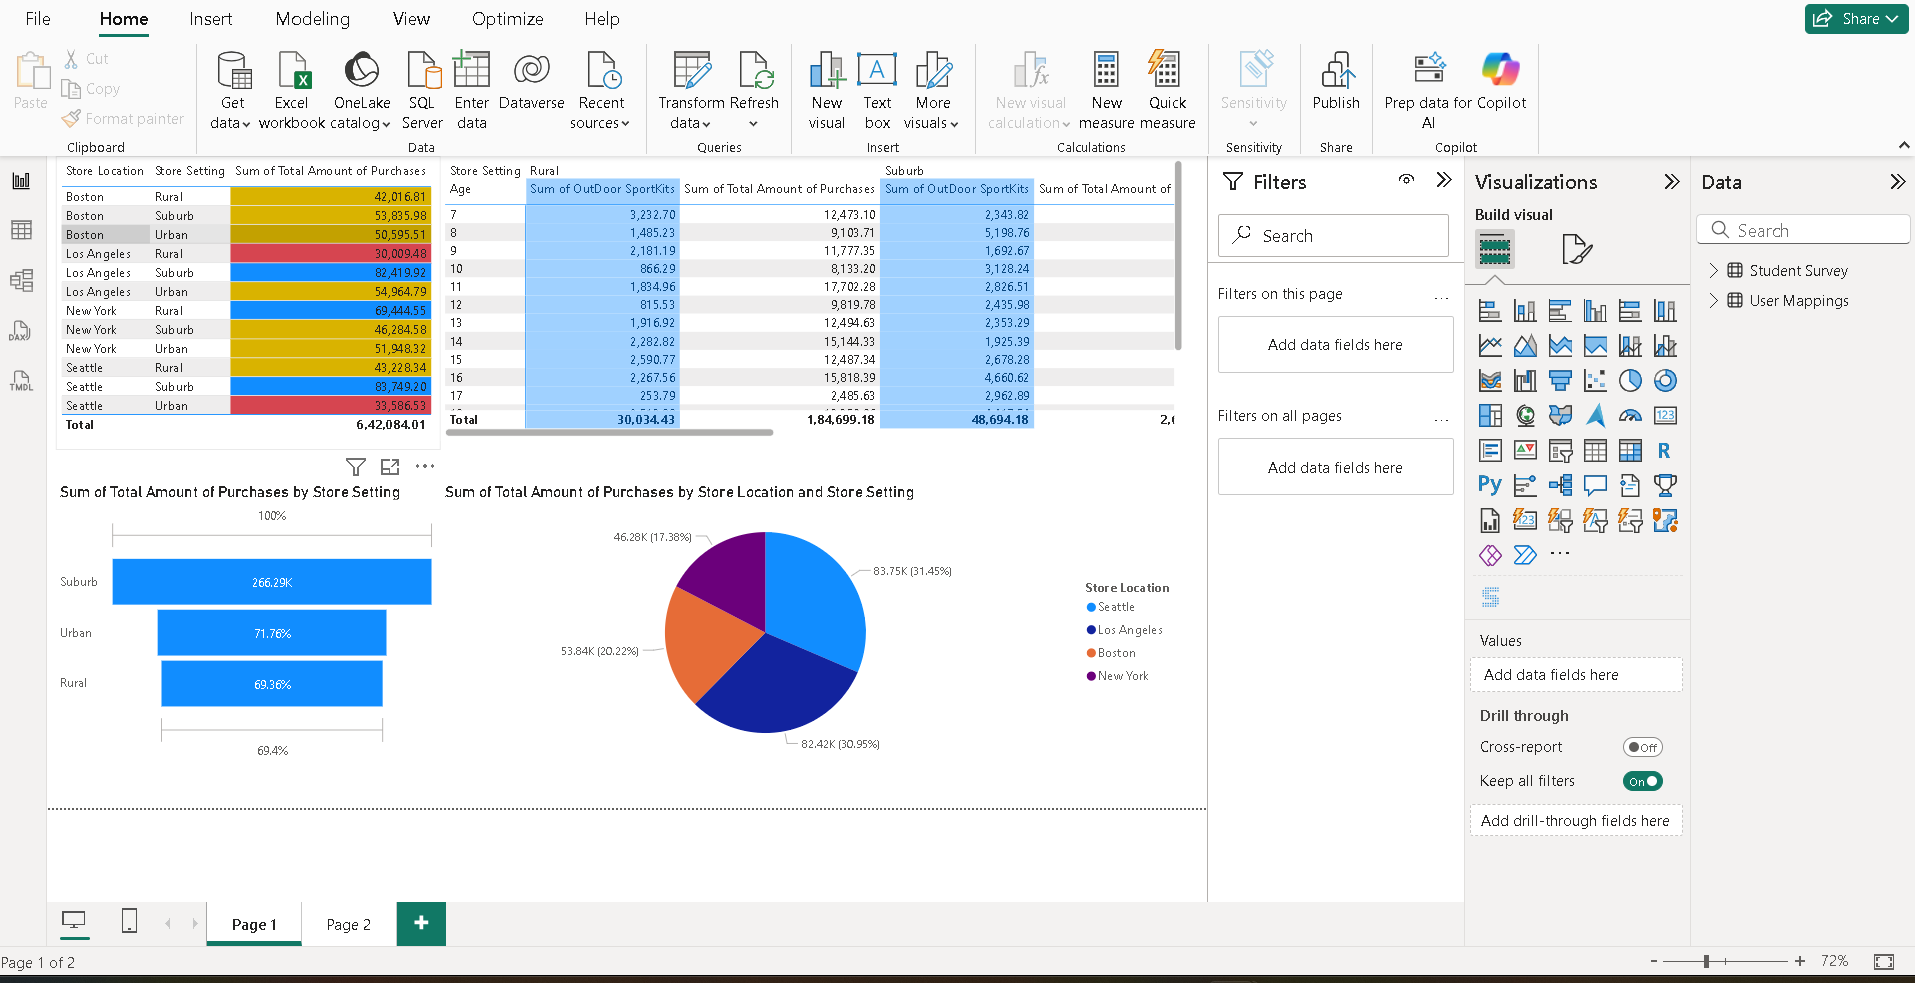

Layout of this report page (visuals, bound fields, positions):
{"tool":"powerbi","page":{"name":"Page 1","canvas":[1280,720],"ordinal":0},"visuals":[{"type":"tableEx","fields":{"Values":["Student Survey.Store Location","Student Survey.Store Setting","Sum(Student Survey.Total Amount of Purchases)"]},"box":[9.7,0,424.9,324.2],"z":0},{"type":"pivotTable","fields":{"Values":["Sum(Student Survey.OutDoor SportKits)","Sum(Student Survey.Total Amount of Purchases)"],"Columns":["Student Survey.Store Setting"],"Rows":["Student Survey.Age"]},"box":[434.6,0,823.6,314.6],"z":1000},{"type":"funnel","fields":{"Y":["Sum(Student Survey.Total Amount of Purchases)"],"Category":["Student Survey.Store Setting"]},"box":[9.7,360.1,424.9,313.2],"z":2000},{"type":"pieChart","fields":{"Y":["Sum(Student Survey.Total Amount of Purchases)"],"Category":["Student Survey.Store Location"],"Series":["Student Survey.Store Setting"]},"box":[435,360,824,313],"z":3000}]}

Visuals, with their boxes on the page's 1280x720 design canvas (x1, y1, x2, y2). These are canvas units, not pixel positions in the 1915x983 screenshot, which may show the page scaled, cropped or inside an application window:
tableEx - Student Survey.Store Location x Student Survey.Store Setting: (x1=10, y1=0, x2=435, y2=324)
pivotTable - Sum(Student Survey.OutDoor SportKits) x Sum(Student Survey.Total Amount of Purchases): (x1=435, y1=0, x2=1258, y2=315)
funnel - Sum(Student Survey.Total Amount of Purchases) x Student Survey.Store Setting: (x1=10, y1=360, x2=435, y2=673)
pieChart - Sum(Student Survey.Total Amount of Purchases) x Student Survey.Store Location: (x1=435, y1=360, x2=1259, y2=673)
